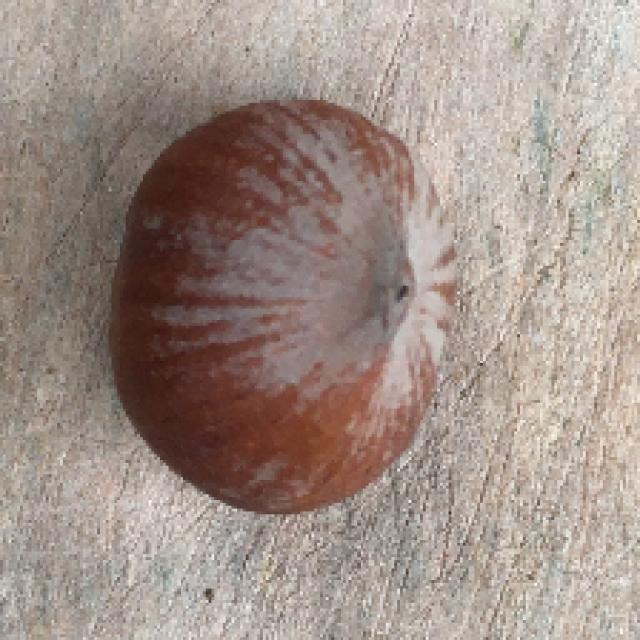qualityHazelnut: (104, 99, 460, 516)
